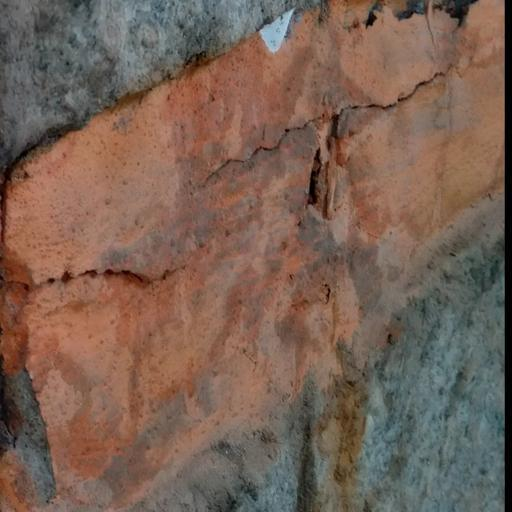major_crack: (207, 27, 464, 184), (0, 242, 213, 334)
